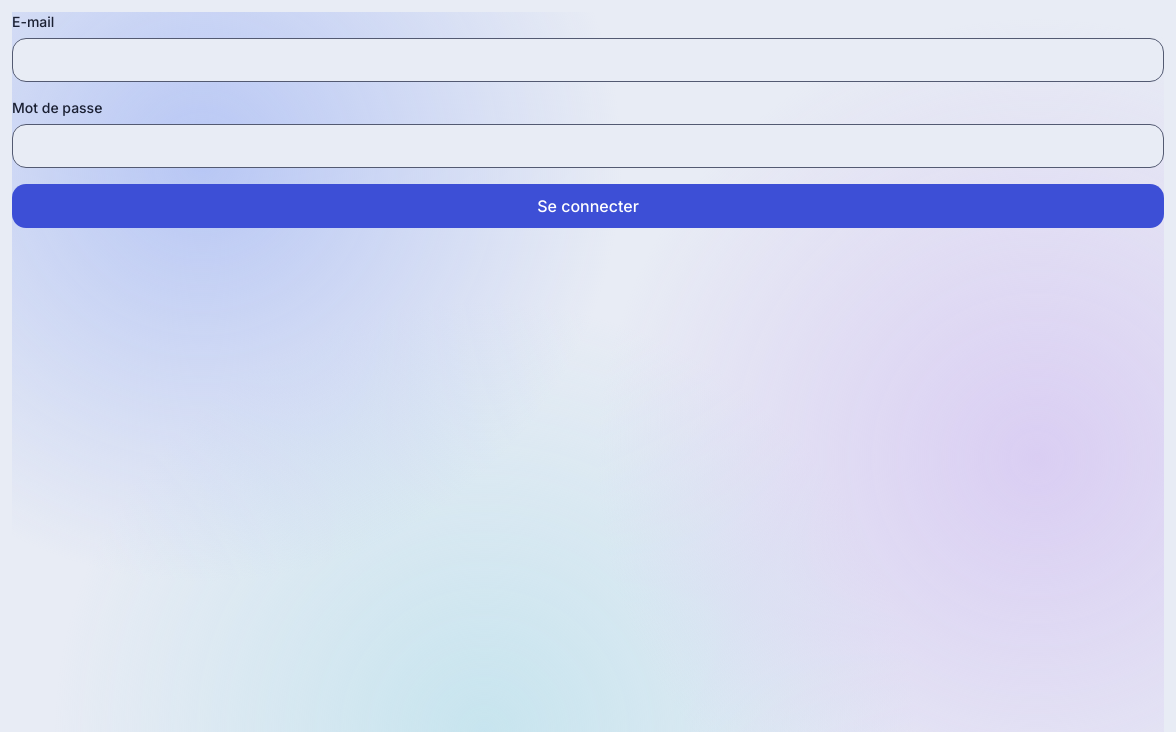
Scenario: formulaire de connexion › affiche « identifiants invalides » quand l'action le renvoie
In the field labelled "E-mail": (588, 60) [12,38,1164,82], type "a@example.test"
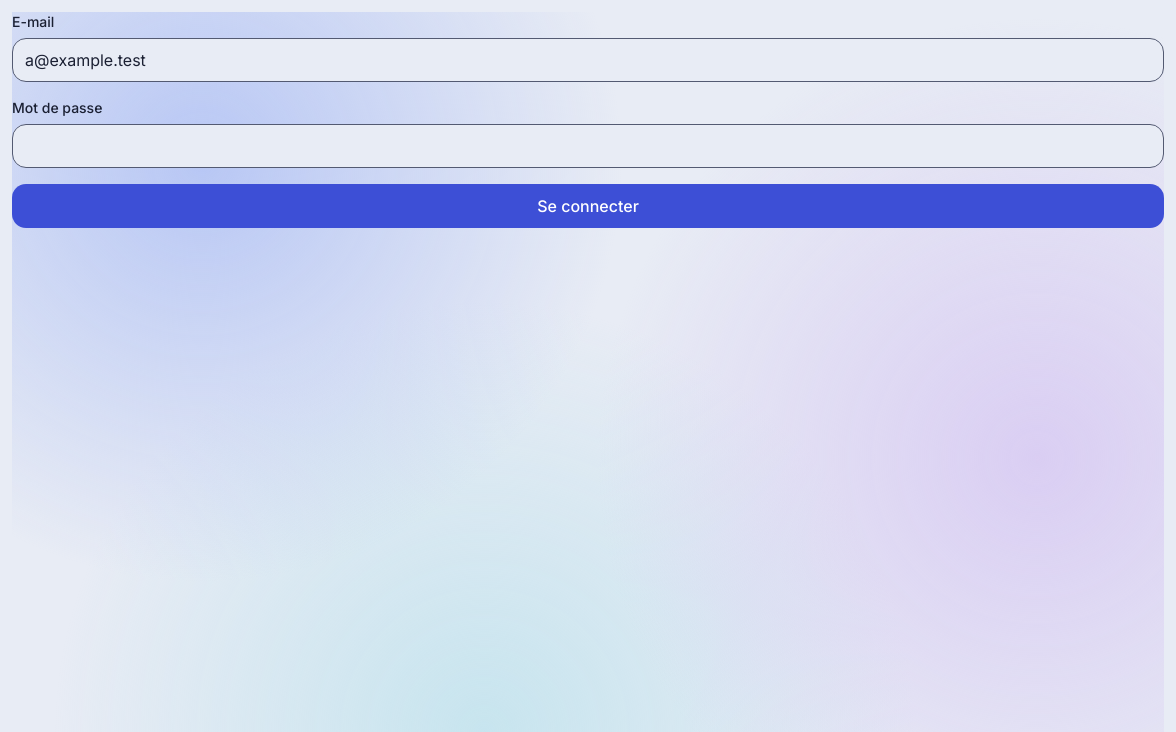
In the password field labelled "Mot de passe": (588, 146) [12,124,1164,168], type "faux"
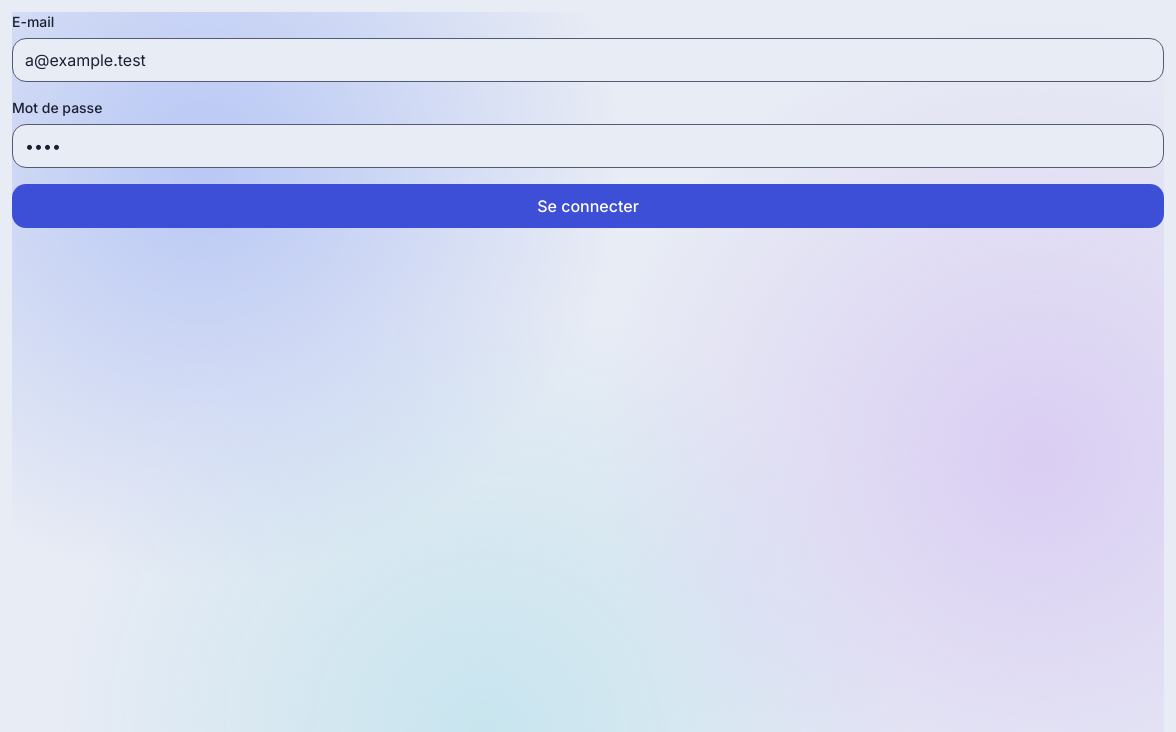
Click the button "Se connecter": click(588, 206) [12,184,1164,228]
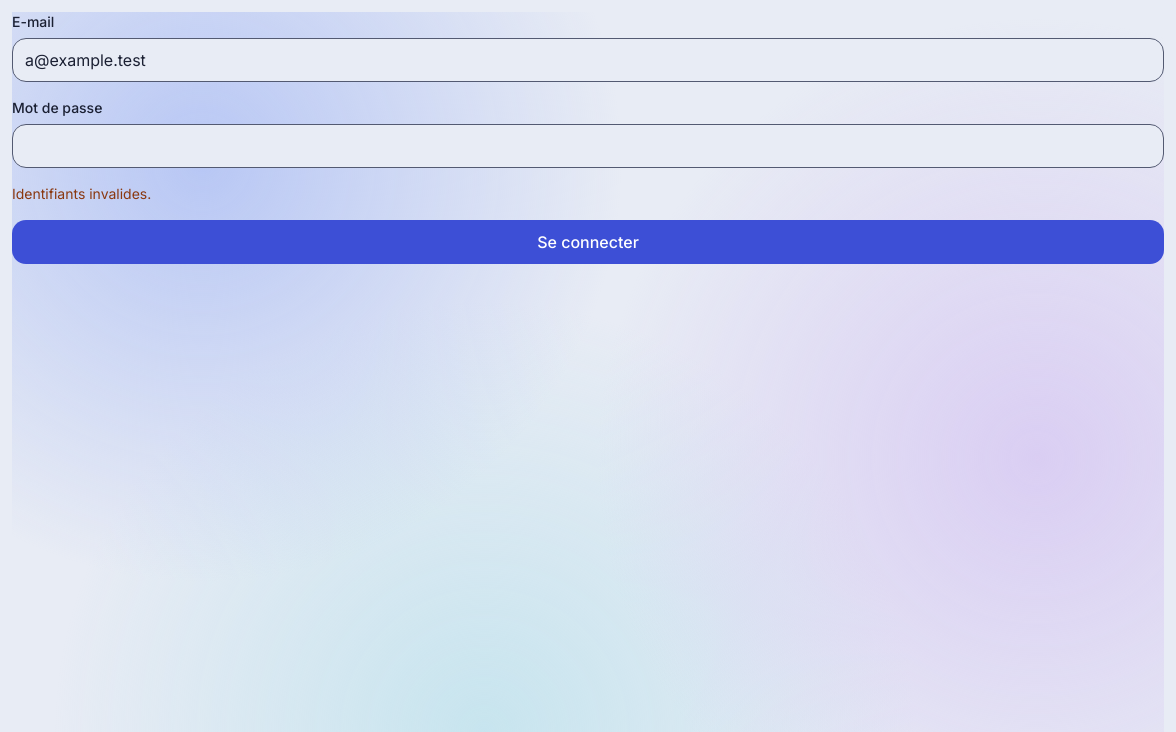
Now the message reads "Identifiants invalides.", box [12,185,151,202]
